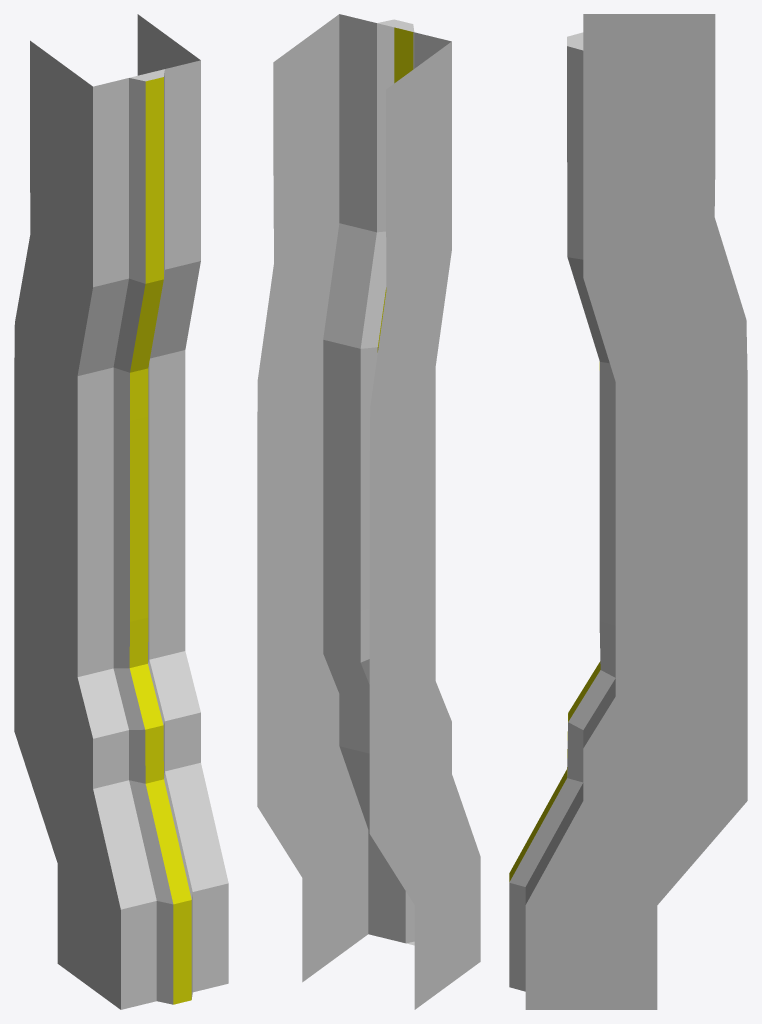
Rendered from Columns.fbx.
3 views of the same model, side by side, from view 1: azimuth 30°, elevation 25°; view 2: azimuth 150°, elevation 25°; view 3: azimuth 270°, elevation 25° (orthographic). The views are drawn at different scales.
Parts seen in each view (by area): view 1: Columns; view 2: Columns; view 3: Columns.
Part boxes in pixels (x1,y1,x2,y2): Columns: (14,14,228,1009); Columns: (257,14,480,1009); Columns: (509,14,747,1009).
Size of the model in its own units: 0.25 by 2 by 0.4591.
